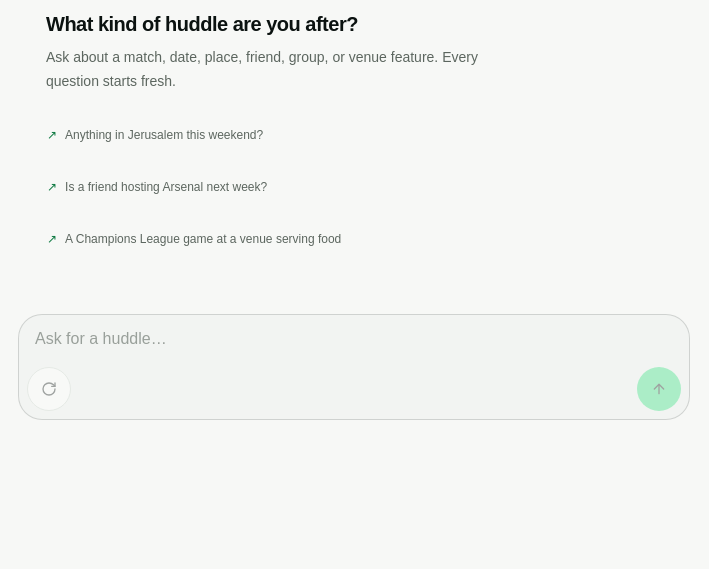
Test case: AssistedDiscoveryChat › rejects a browser coordinate outside the Israel pilot
The width and height of the screenshot is (709, 569).
Type "Anything nearby tomorrow?" into the text box named "Ask Huddle what you want to watch" at (354, 339), box [19,315,689,363]
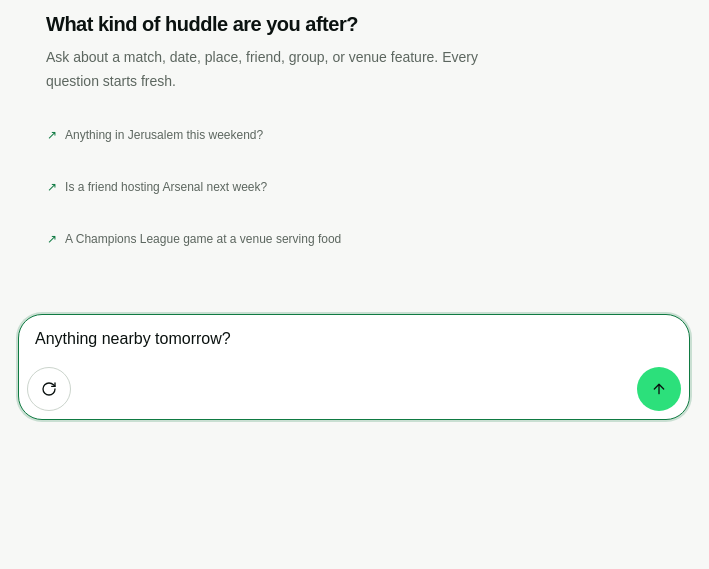
Click the button named "Send question" at (659, 389), box [637,367,681,411]
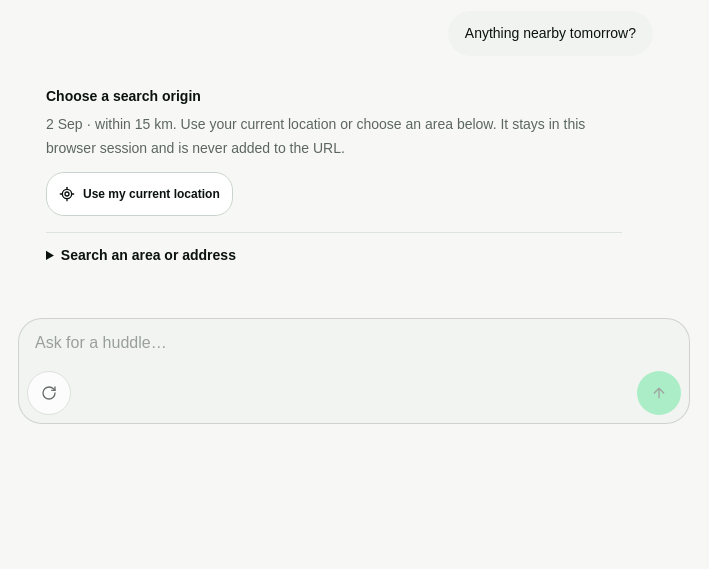
Click the button "Use my current location" at (139, 194), box [46,172,233,216]
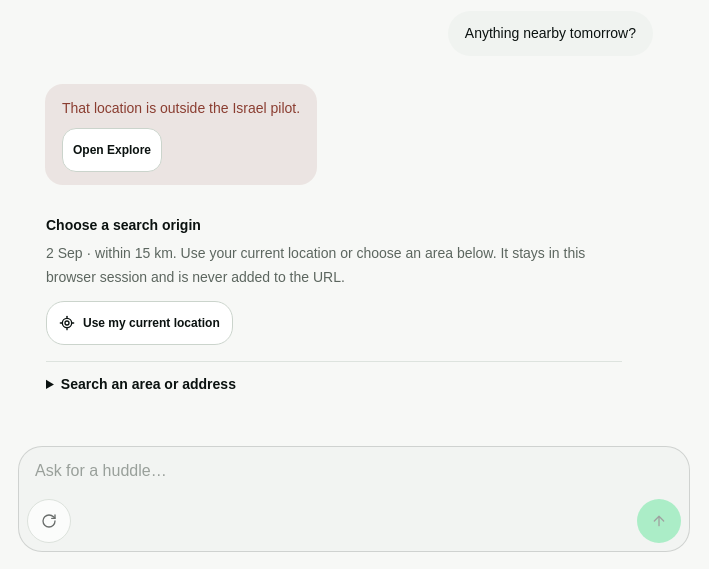
Result: the message shows "That location is outside the Israel pilot." at [62,100,300,116]
